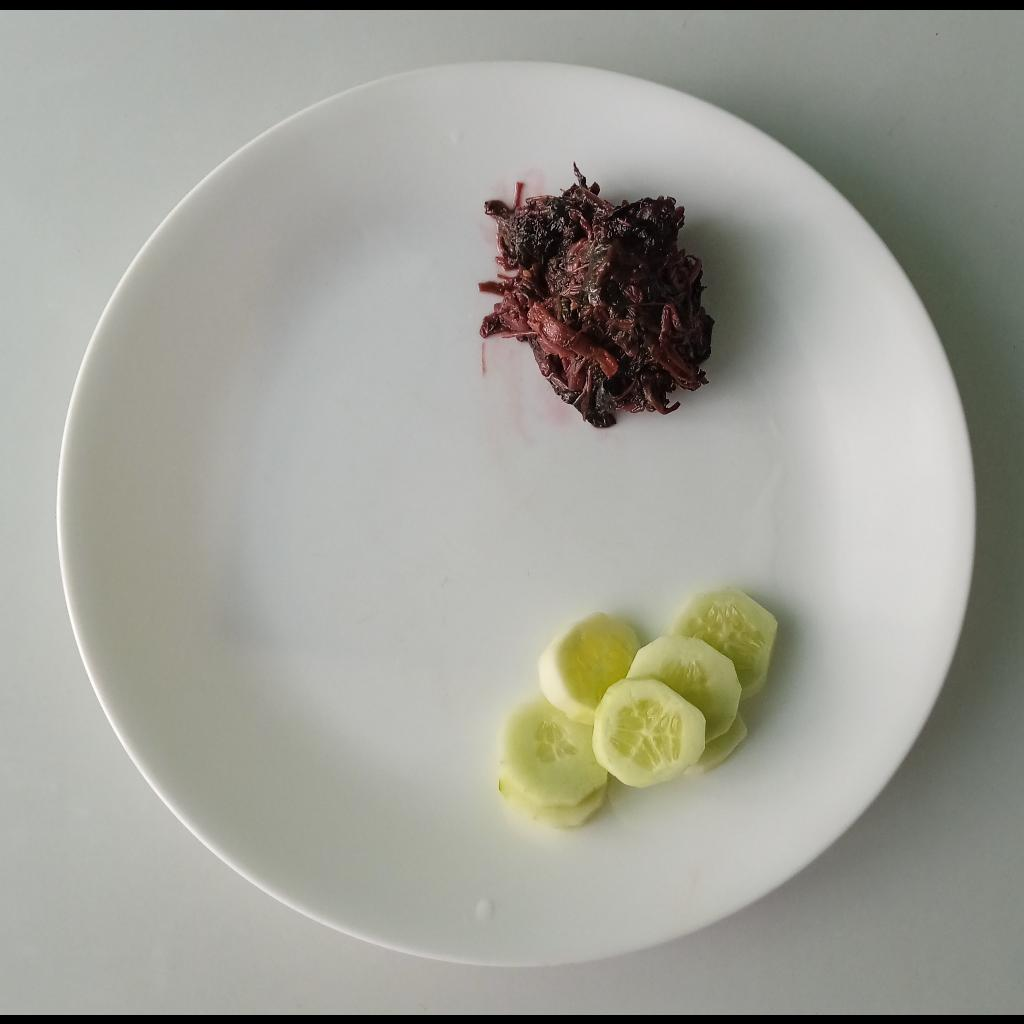cucumber: (497, 584, 777, 826)
shak: (480, 158, 717, 427)
